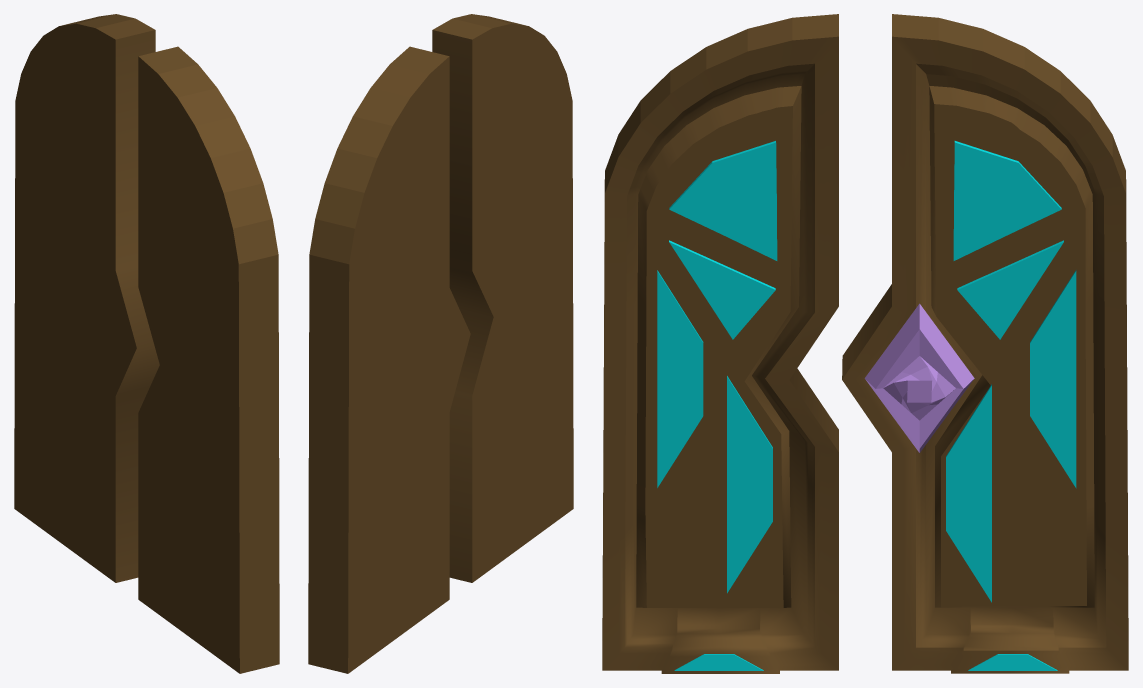
The model's file is doors_high.fbx.
The picture shows the model from 3 angles, left to right: view 1: azimuth 30°, elevation 25°; view 2: azimuth 150°, elevation 25°; view 3: azimuth 270°, elevation 25°; orthographic projection. The views are drawn at different scales.
Parts seen in each view (by area): view 1: door_left.001, door_right.001; view 2: door_right.001, door_left.001; view 3: door_left.001, door_right.001, Cube.001, Plane.019, Plane.018, Plane.011, Plane.010, Plane.015, Plane.014, Plane.016, Plane.017, Plane.012 (+1 smaller).
Part boxes in pixels (box(x1,y1,x2,y2)): door_left.001: box(138, 46, 279, 673); door_right.001: box(14, 14, 159, 582); door_right.001: box(308, 46, 470, 673); door_left.001: box(432, 14, 573, 582); door_left.001: box(602, 14, 838, 673); door_right.001: box(842, 14, 1128, 673); Cube.001: box(864, 303, 974, 452); Plane.019: box(953, 141, 1061, 260); Plane.018: box(669, 141, 777, 260); Plane.011: box(1030, 270, 1076, 488); Plane.010: box(657, 270, 703, 487); Plane.015: box(946, 384, 991, 602); Plane.014: box(727, 376, 772, 593); Plane.016: box(957, 240, 1063, 339); Plane.017: box(669, 240, 775, 339); Plane.012: box(968, 654, 1057, 670).
Size of the model in its own units: 881 by 7596 by 5714.
